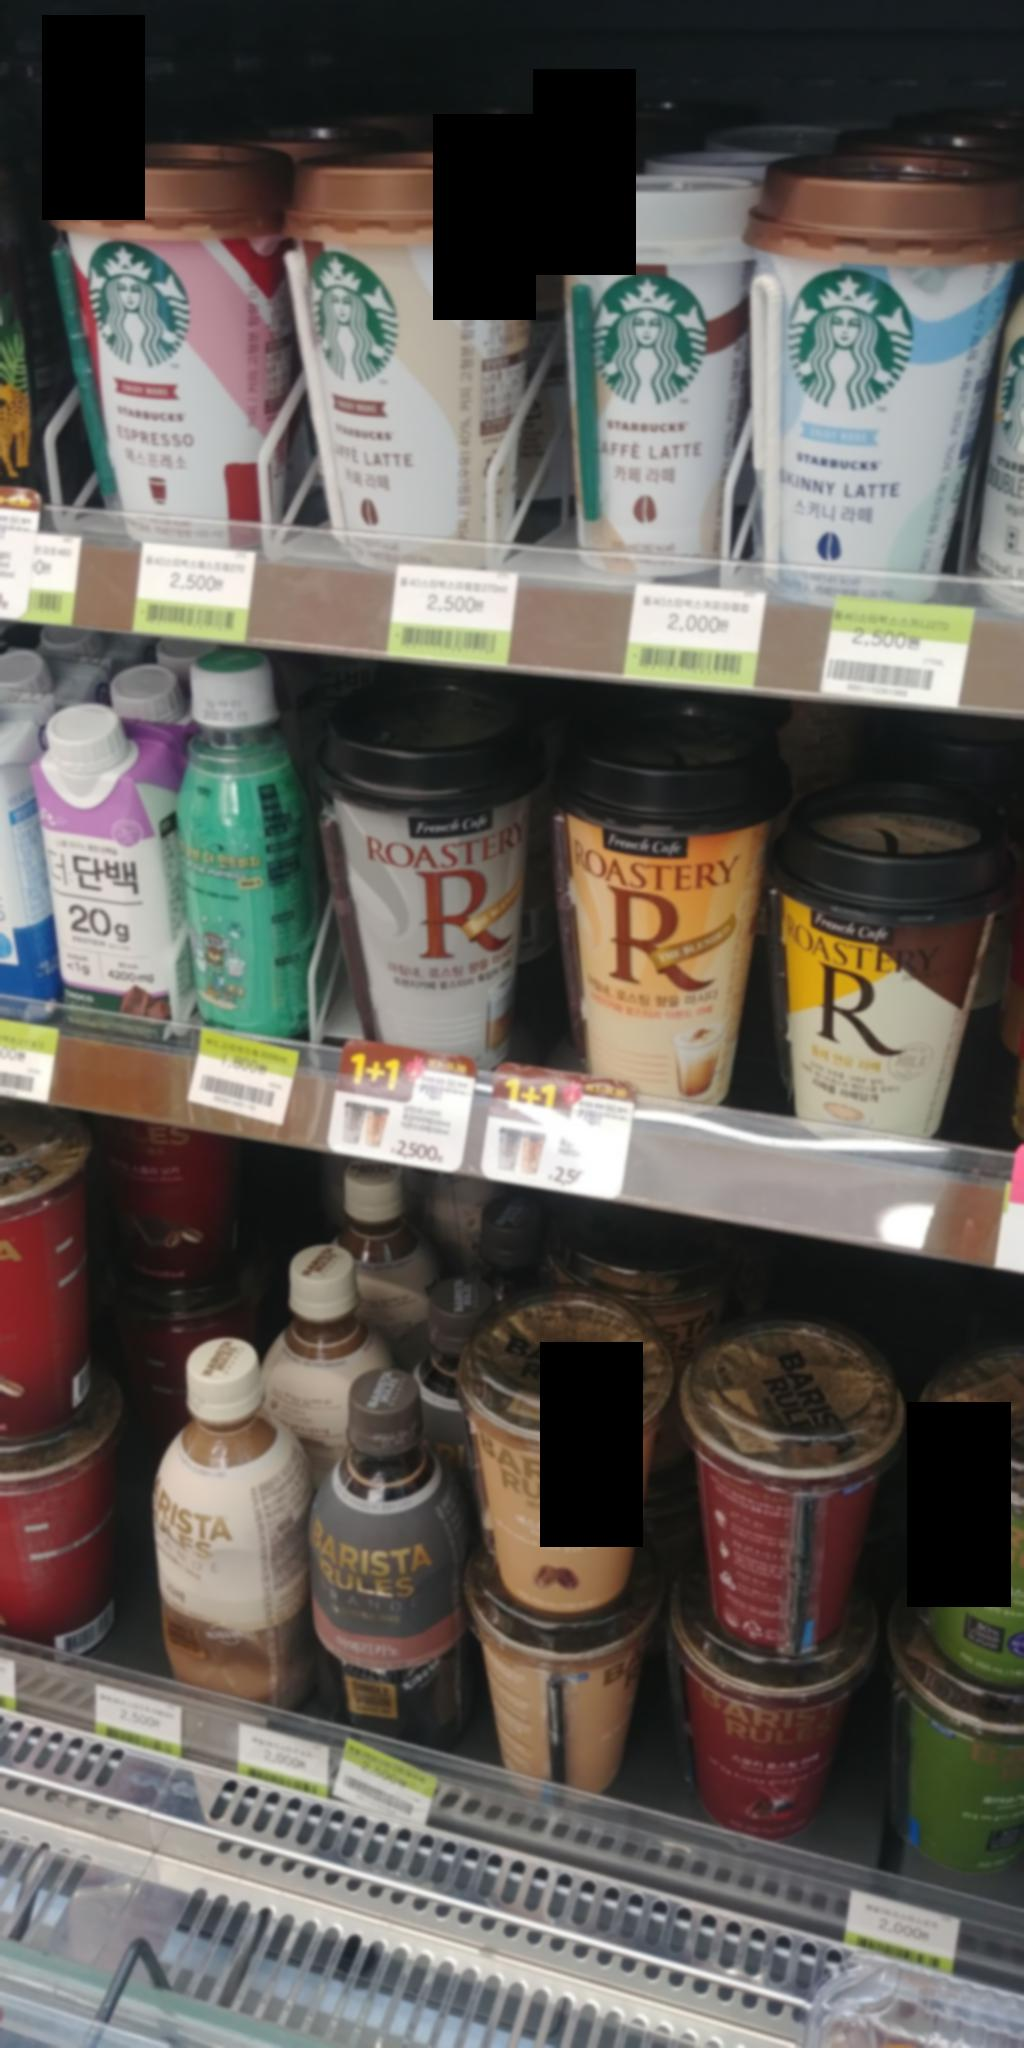baristarules_espressolatte: (474, 1324, 664, 1603)
starbucks_cafelatte: (296, 153, 543, 555)
